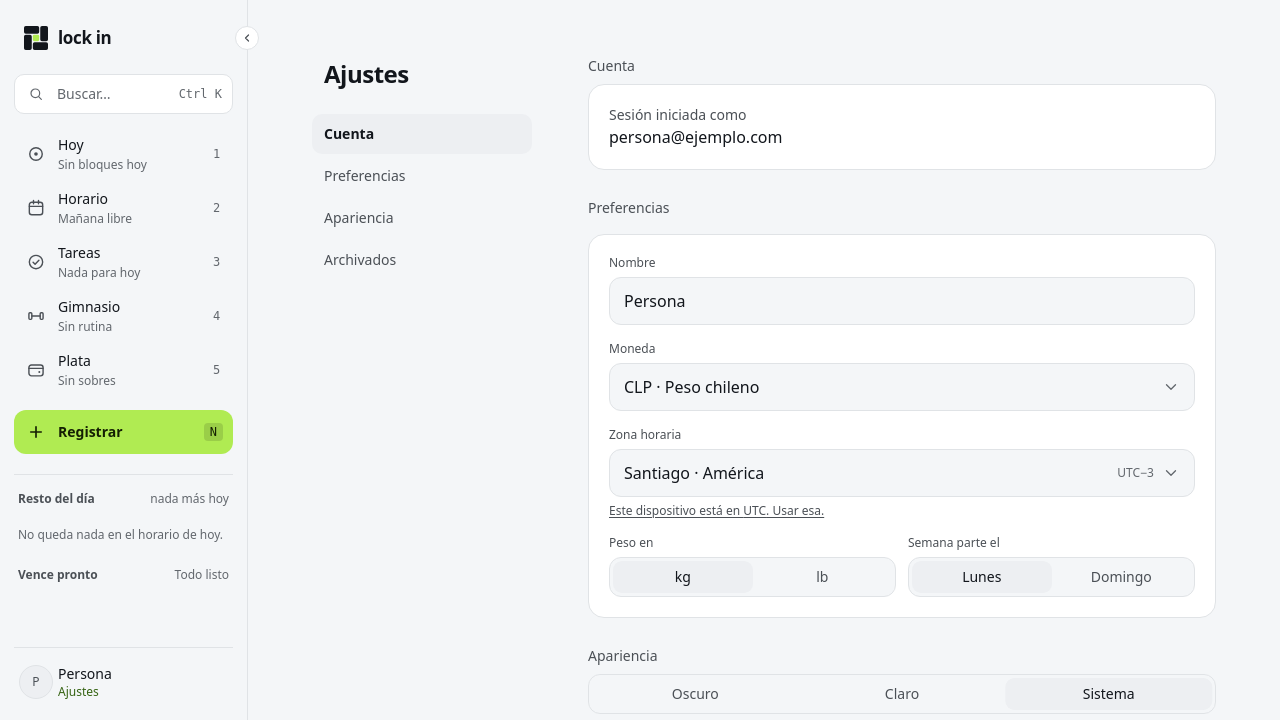
Test: cáscara › los atajos no se disparan mientras se escribe
The image size is (1280, 720).
Type "5" into the field labelled "Nombre" at coordinates (902, 301), box [609, 277, 1195, 325]
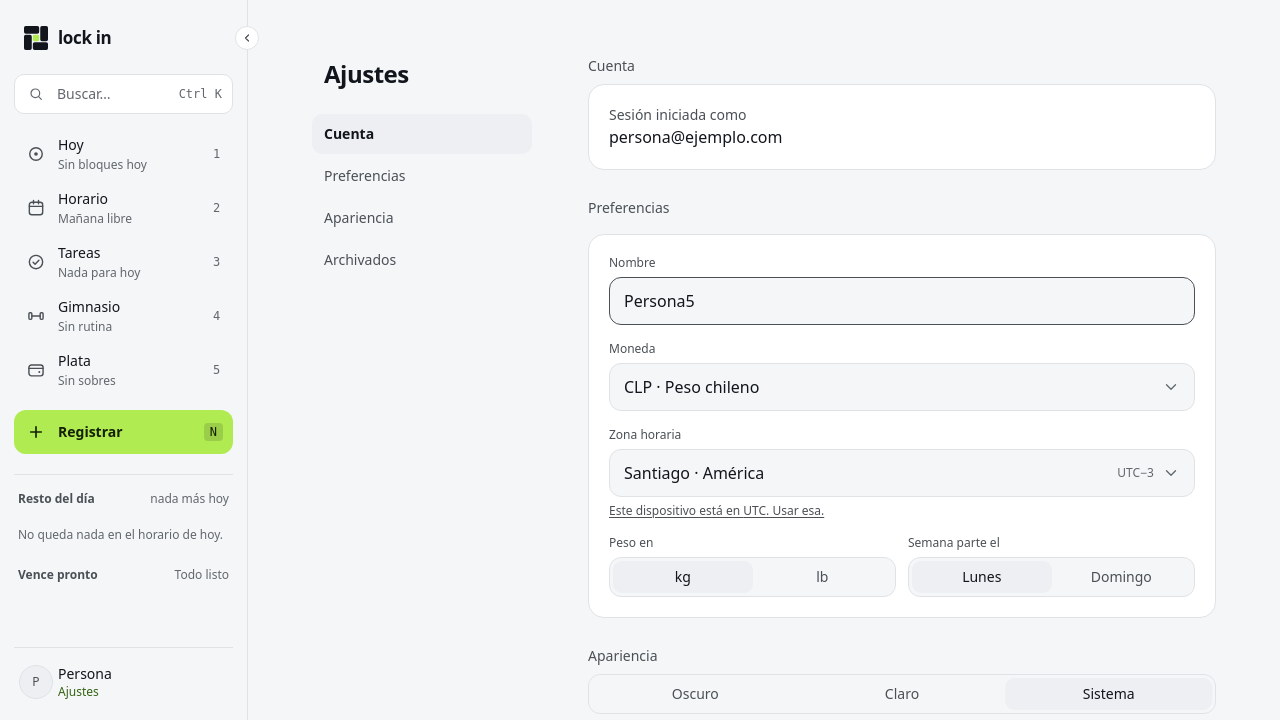
Check: the text "Ajustes" is shown, box [58, 683, 99, 700]
Check: the field labelled "Nombre" holds "Persona5", box [609, 277, 1195, 325]
